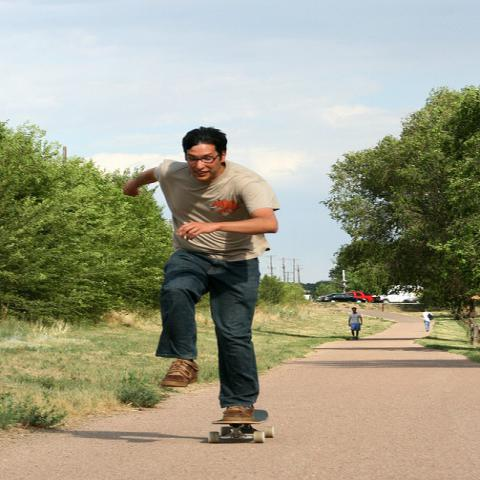car: (373, 286, 425, 304), (319, 292, 366, 302)
truck: (345, 291, 374, 303)
